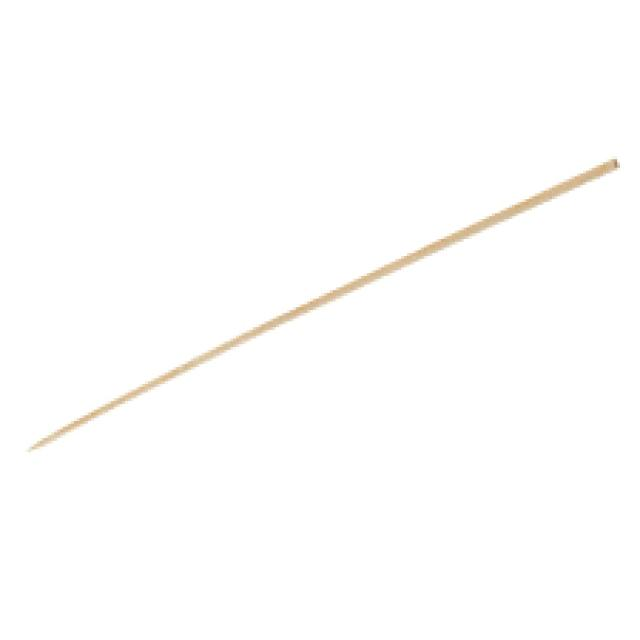stick: (29, 159, 613, 451)
